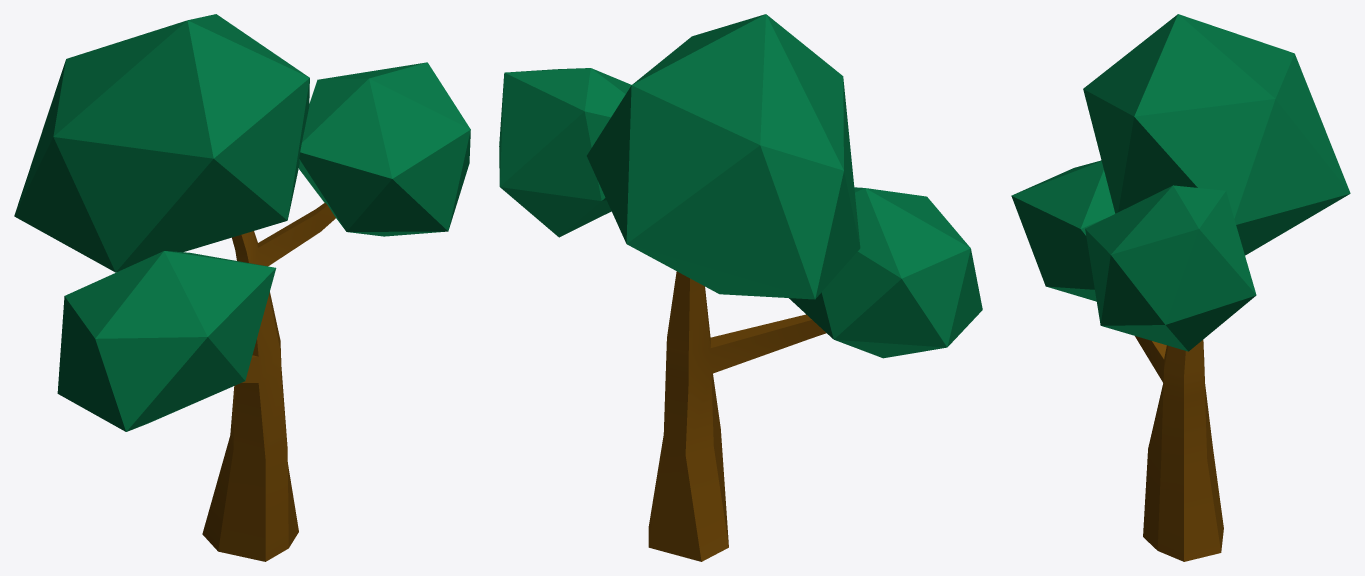
File: tree_PUB.fbx
3 renders of one model, left to right at view 1: azimuth 30°, elevation 25°; view 2: azimuth 150°, elevation 25°; view 3: azimuth 270°, elevation 25°, orthographic. The views are drawn at different scales.
Parts seen in each view (by area): view 1: Foliage3_GEO, Foliage1_GEO, Foliage2_GEO, Trunk_GEO; view 2: Foliage3_GEO, Foliage1_GEO, Trunk_GEO, Foliage2_GEO; view 3: Foliage3_GEO, Foliage2_GEO, Trunk_GEO, Foliage1_GEO.
Part boxes in pixels (x1=…): Foliage3_GEO: x1=14, y1=14, x2=309, y2=272; Foliage1_GEO: x1=57, y1=251, x2=276, y2=431; Foliage2_GEO: x1=299, y1=62, x2=470, y2=236; Trunk_GEO: x1=202, y1=203, x2=335, y2=561; Foliage3_GEO: x1=587, y1=14, x2=860, y2=299; Foliage1_GEO: x1=789, y1=187, x2=982, y2=358; Trunk_GEO: x1=648, y1=271, x2=826, y2=561; Foliage2_GEO: x1=499, y1=68, x2=631, y2=237; Foliage3_GEO: x1=1083, y1=14, x2=1350, y2=255; Foliage2_GEO: x1=1085, y1=185, x2=1256, y2=351; Trunk_GEO: x1=1135, y1=336, x2=1223, y2=561; Foliage1_GEO: x1=1011, y1=160, x2=1115, y2=301.
Bounding box in the file's own units: 248 × 298 × 185.
